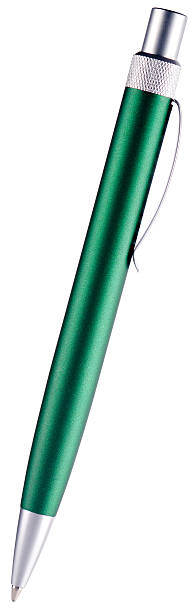pen: (5, 4, 187, 609)
